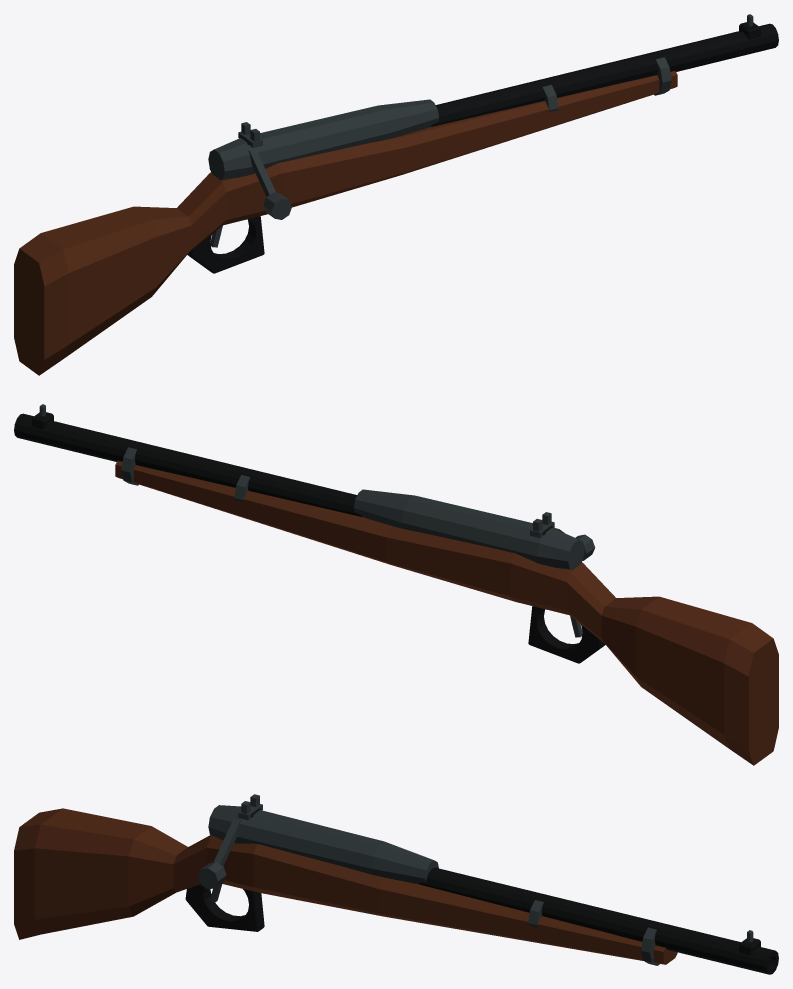
The model's file is CE_Gun_MosqueFAL.obj.
The picture shows the model from 3 angles, top to bottom: view 1: azimuth 30°, elevation 25°; view 2: azimuth 150°, elevation 25°; view 3: azimuth 330°, elevation 25°; orthographic projection.
Parts seen in each view (by area): view 1: MosqueFAL_unique_walnut_stock, MosqueFAL_long_dark_bore, MosqueFAL_rounded_bolt_action, Rounded_trigger_guard; view 2: MosqueFAL_unique_walnut_stock, MosqueFAL_rounded_bolt_action, MosqueFAL_long_dark_bore, Rounded_trigger_guard; view 3: MosqueFAL_unique_walnut_stock, MosqueFAL_long_dark_bore, MosqueFAL_rounded_bolt_action, Rounded_trigger_guard, Bolt_ball, Bent_bolt_handle, Fore-stock_steel_retaining_band.001.
Part boxes in pixels (left/top/right/bottom): MosqueFAL_unique_walnut_stock: left=14, top=70, right=677, bottom=375; MosqueFAL_long_dark_bore: left=430, top=23, right=778, bottom=127; MosqueFAL_rounded_bolt_action: left=208, top=99, right=438, bottom=180; Rounded_trigger_guard: left=187, top=216, right=264, bottom=273; MosqueFAL_unique_walnut_stock: left=115, top=460, right=778, bottom=765; MosqueFAL_rounded_bolt_action: left=354, top=489, right=584, bottom=570; MosqueFAL_long_dark_bore: left=14, top=413, right=362, bottom=517; Rounded_trigger_guard: left=528, top=606, right=605, bottom=663; MosqueFAL_unique_walnut_stock: left=14, top=808, right=677, bottom=964; MosqueFAL_long_dark_bore: left=418, top=867, right=778, bottom=974; MosqueFAL_rounded_bolt_action: left=208, top=805, right=438, bottom=883; Rounded_trigger_guard: left=185, top=884, right=264, bottom=931; Bolt_ball: left=197, top=862, right=226, bottom=889; Bent_bolt_handle: left=214, top=818, right=240, bottom=866; Fore-stock_steel_retaining_band.001: left=641, top=927, right=659, bottom=965.
Bounding box in the file's own units: 1.31 × 0.315 × 0.1655.
